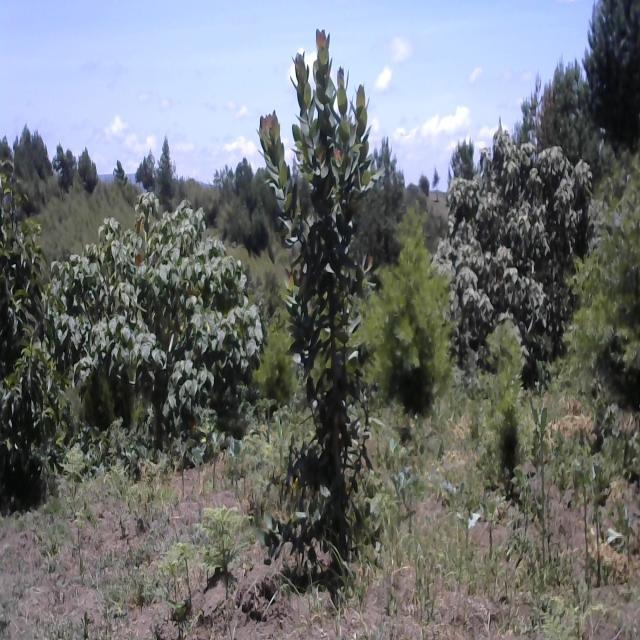Hass Avocado: (0, 135, 46, 489)
cedrus: (378, 228, 448, 422), (487, 313, 530, 494)
other: (273, 23, 391, 582), (50, 190, 270, 436), (444, 130, 622, 332)
